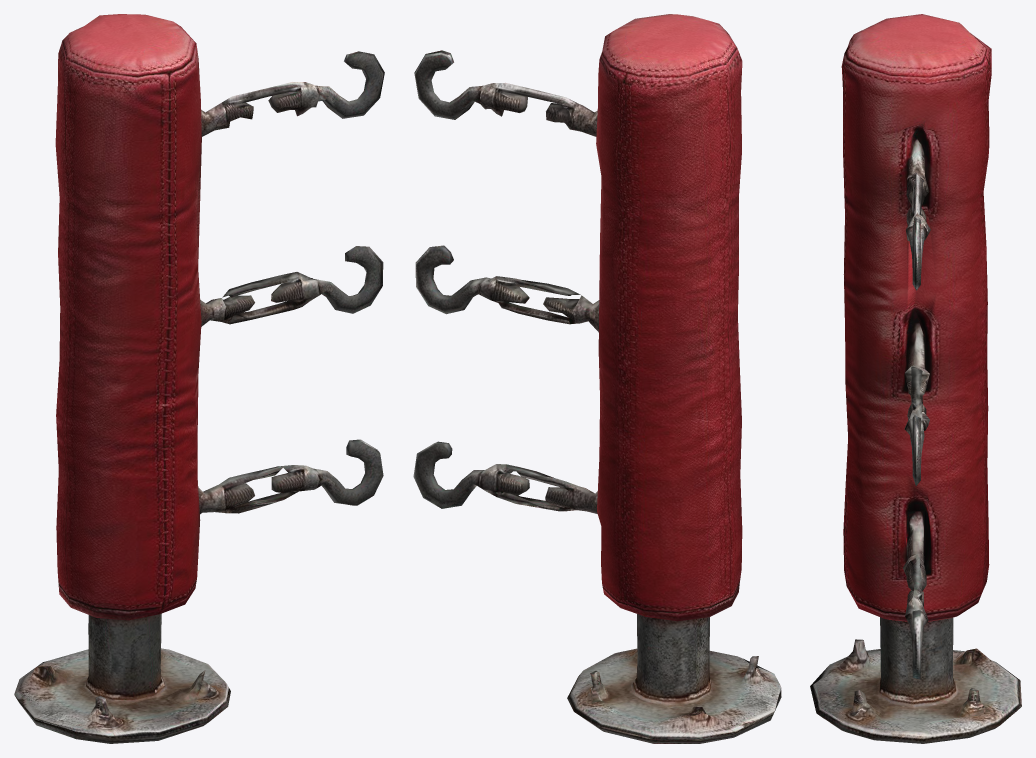
File: corner_post.glb
3 renders of one model, left to right at view 1: azimuth 30°, elevation 25°; view 2: azimuth 150°, elevation 25°; view 3: azimuth 270°, elevation 25°, orthographic.
Visible parts, largest first — view 1: tripo_node_169837ce; view 2: tripo_node_169837ce; view 3: tripo_node_169837ce.
Boxes of the visible parts, x1,y1,x2,y2 form: tripo_node_169837ce: (14, 14, 384, 743); tripo_node_169837ce: (413, 14, 781, 743); tripo_node_169837ce: (810, 14, 1021, 743).
Bounding box in the file's own units: 0.8111 × 1.45 × 0.4166.
1 material, 1 textured.
